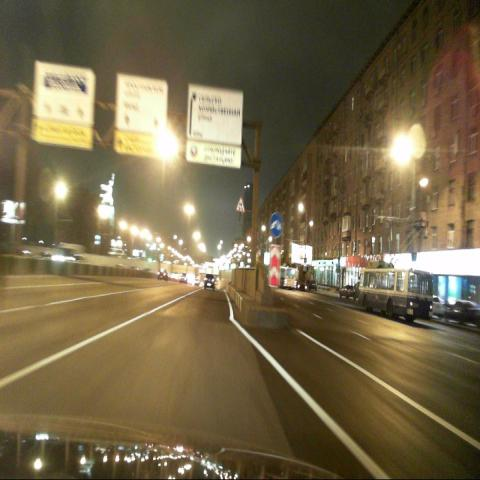4_2_3: (269, 211, 283, 238)
